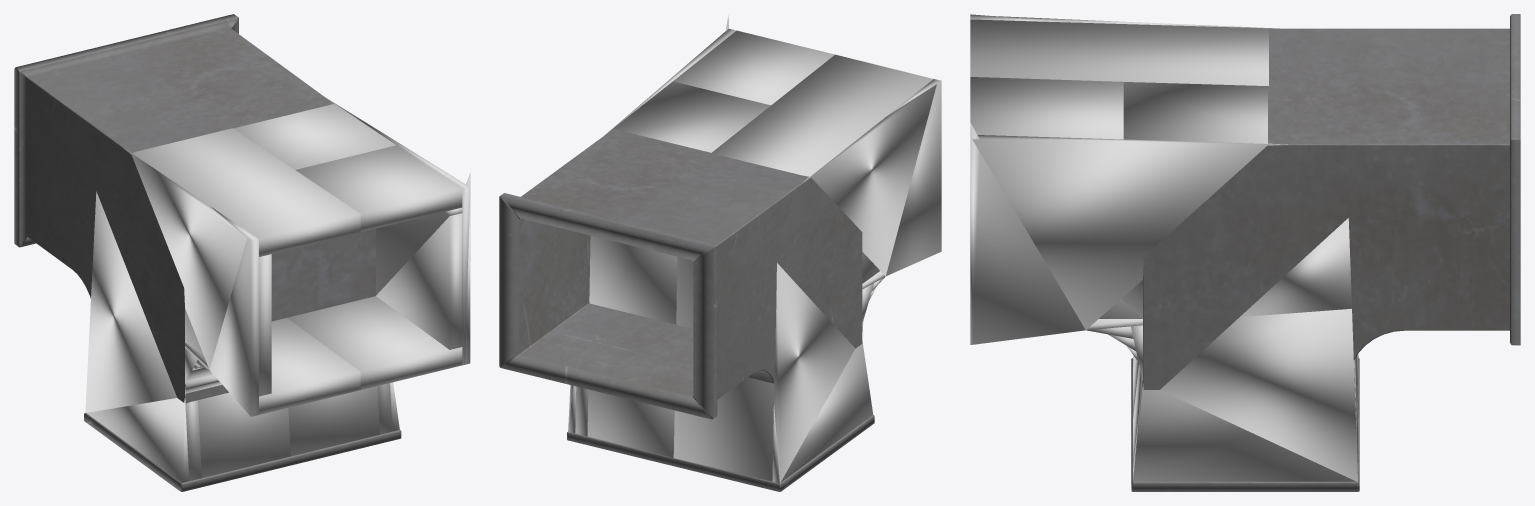
The model's file is SM_Vent_Elbow_Vertical.fbx.
The picture shows the model from 3 angles, left to right: view 1: azimuth 30°, elevation 25°; view 2: azimuth 150°, elevation 25°; view 3: azimuth 270°, elevation 25°; orthographic projection. The views are drawn at different scales.
Visible parts, largest first — view 1: SM_Vent_Elbow_Vertical_ConvexHulls, SM_Vent_Elbow_Vertical; view 2: SM_Vent_Elbow_Vertical_ConvexHulls, SM_Vent_Elbow_Vertical; view 3: SM_Vent_Elbow_Vertical_ConvexHulls, SM_Vent_Elbow_Vertical.
Boxes of the visible parts, left/top/right/bottom form: SM_Vent_Elbow_Vertical_ConvexHulls: left=85, top=98, right=470, bottom=482; SM_Vent_Elbow_Vertical: left=14, top=14, right=401, bottom=491; SM_Vent_Elbow_Vertical_ConvexHulls: left=568, top=15, right=941, bottom=483; SM_Vent_Elbow_Vertical: left=499, top=129, right=874, bottom=491; SM_Vent_Elbow_Vertical_ConvexHulls: left=970, top=14, right=1358, bottom=482; SM_Vent_Elbow_Vertical: left=1131, top=14, right=1520, bottom=491.
Size of the model in its own units: 1.08 by 1.48 by 2.
